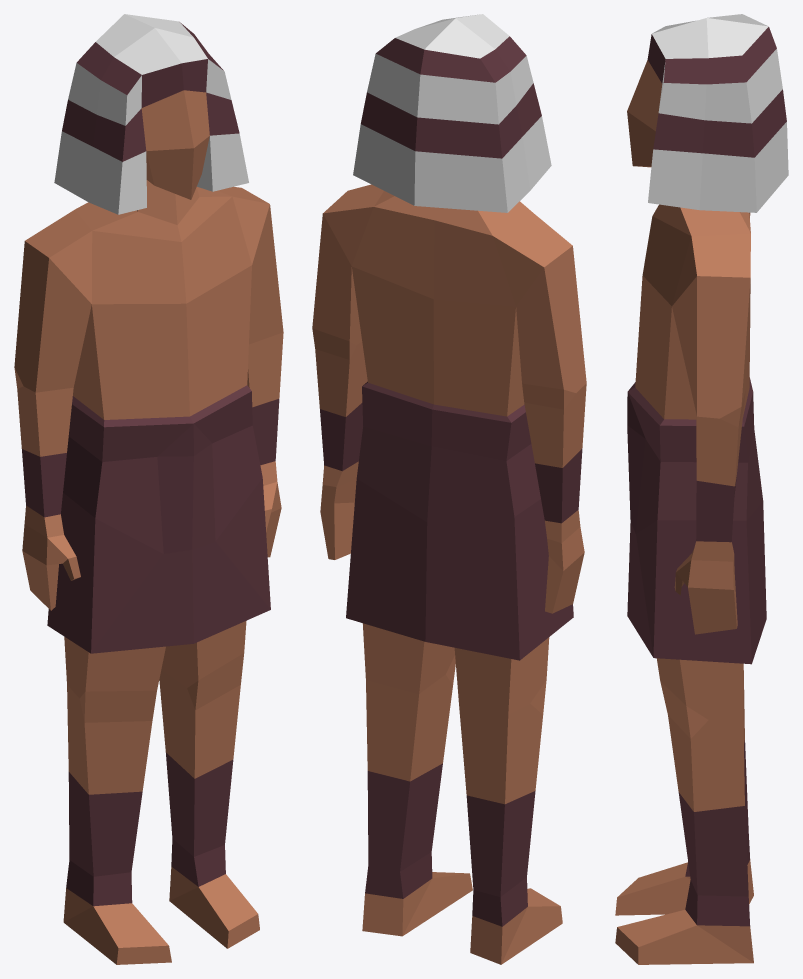
Rendered from man-egypt-soldier.fbx.
3 renders of one model, left to right at view 1: azimuth 30°, elevation 25°; view 2: azimuth 150°, elevation 25°; view 3: azimuth 270°, elevation 25°, orthographic.
Visible parts, largest first — view 1: man-egypt-soldier; view 2: man-egypt-soldier; view 3: man-egypt-soldier.
Part boxes in pixels (x1,y1,x2,y2): man-egypt-soldier: (14,14,283,964); man-egypt-soldier: (312,14,586,964); man-egypt-soldier: (615,14,788,964).
Size of the model in its own units: 0.5411 by 1.85 by 0.3196.
